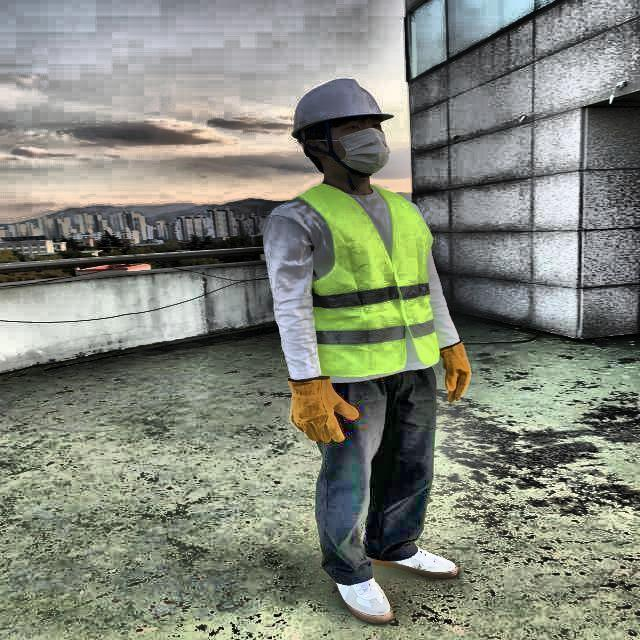safety_jacket: (293, 184, 439, 377)
